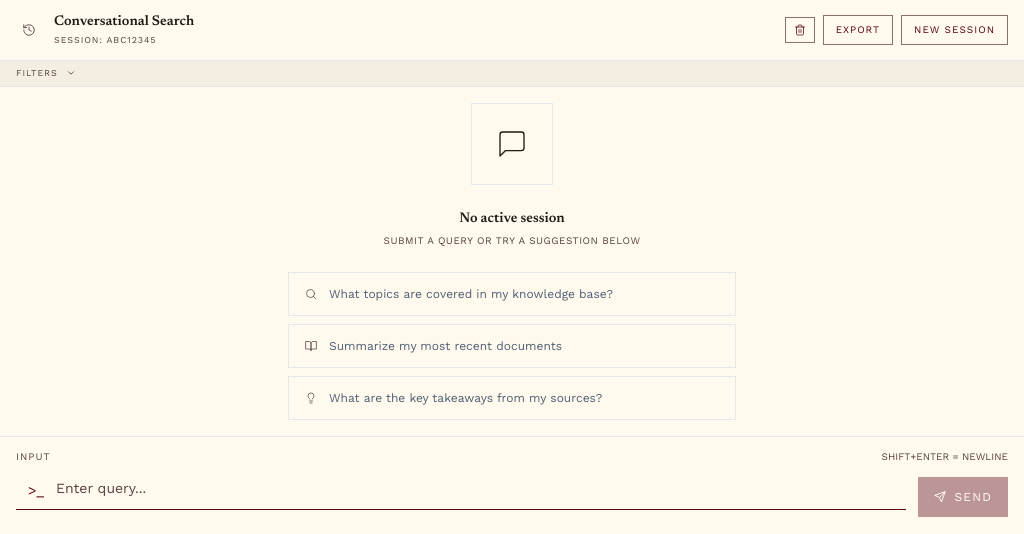
ChatPanel with active conversation › shows Y/N confirmation on delete click
Click the button named "Delete conversation" at [800, 30], box [785, 17, 815, 43]
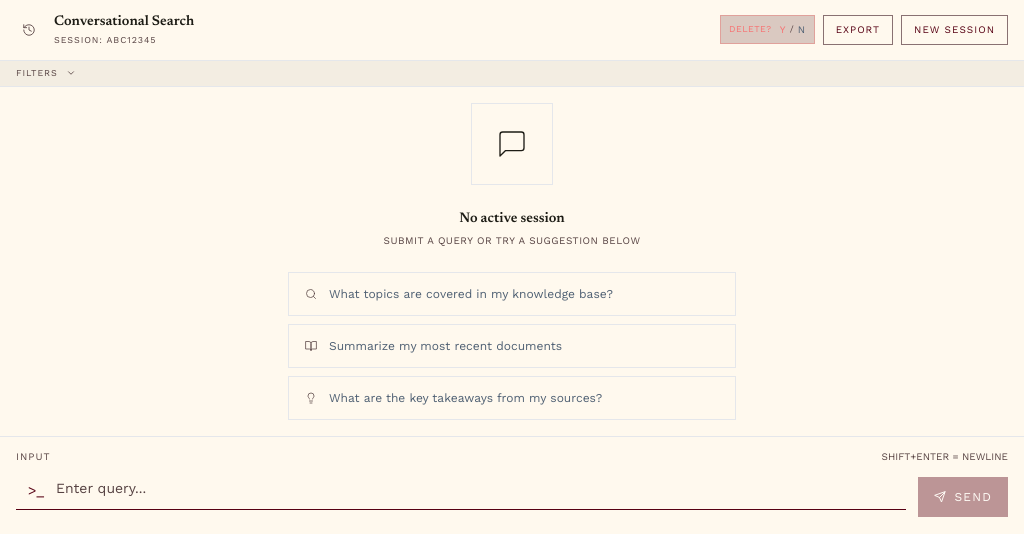
Result: the text "DELETE?" is shown at [729, 23, 772, 36]
Result: the button named "Confirm delete conversation" is shown at [780, 22, 786, 37]
Result: the button named "Cancel delete" is shown at [798, 22, 806, 37]
